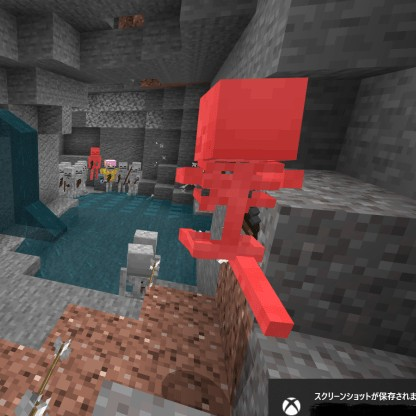skeleton: (185, 77, 316, 231)
